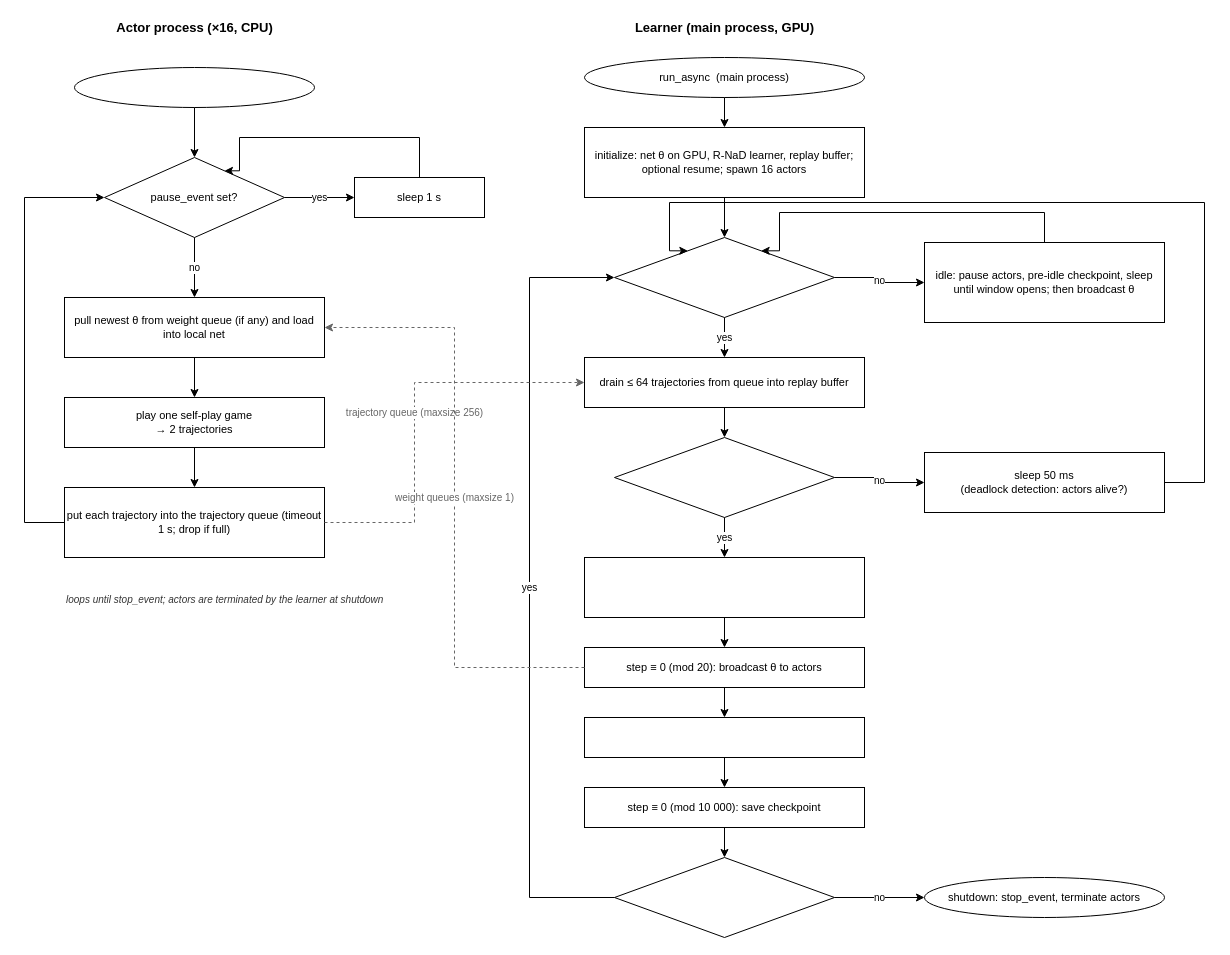
Image size: 1230x955. Some labels were removed from this diagram. The centre of each missing label's shape, as x and y in pixels:
actor_loop (one per actor): (x=194, y=87)
inside training window?: (x=724, y=277)
len(buffer) ≥ 64 ? (warm-up gate): (x=724, y=477)
sample 32 trajectories → one R-NaD update; step ← learner steps: (x=724, y=587)
step < 80 000 ?: (x=724, y=897)
step ≡ 0 (mod eval_every): skill eval: (x=724, y=737)
